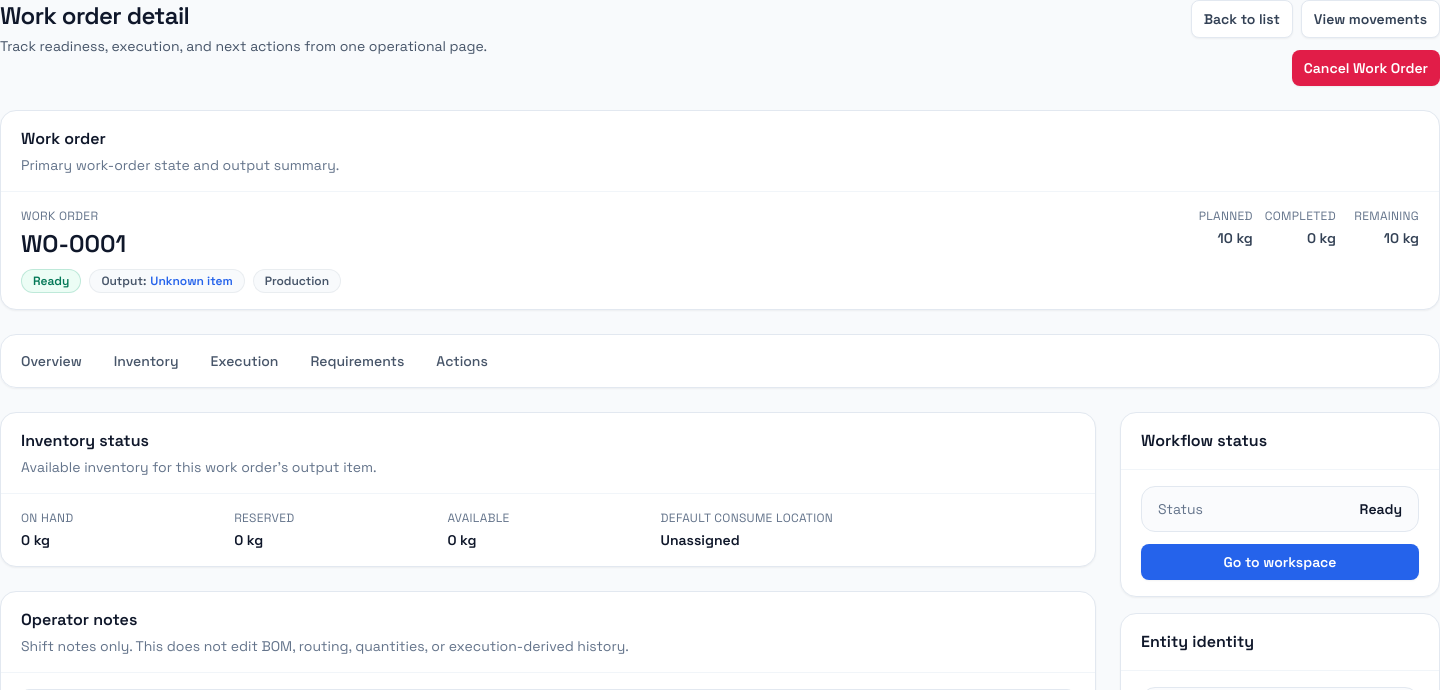
Scenario: WorkOrderDetailPage tabs › opens the detail cancel confirmation and invalidates all work-order branches on confirm
Step 1. Click the button "Cancel Work Order" → (1366, 68), box [1292, 50, 1439, 86]
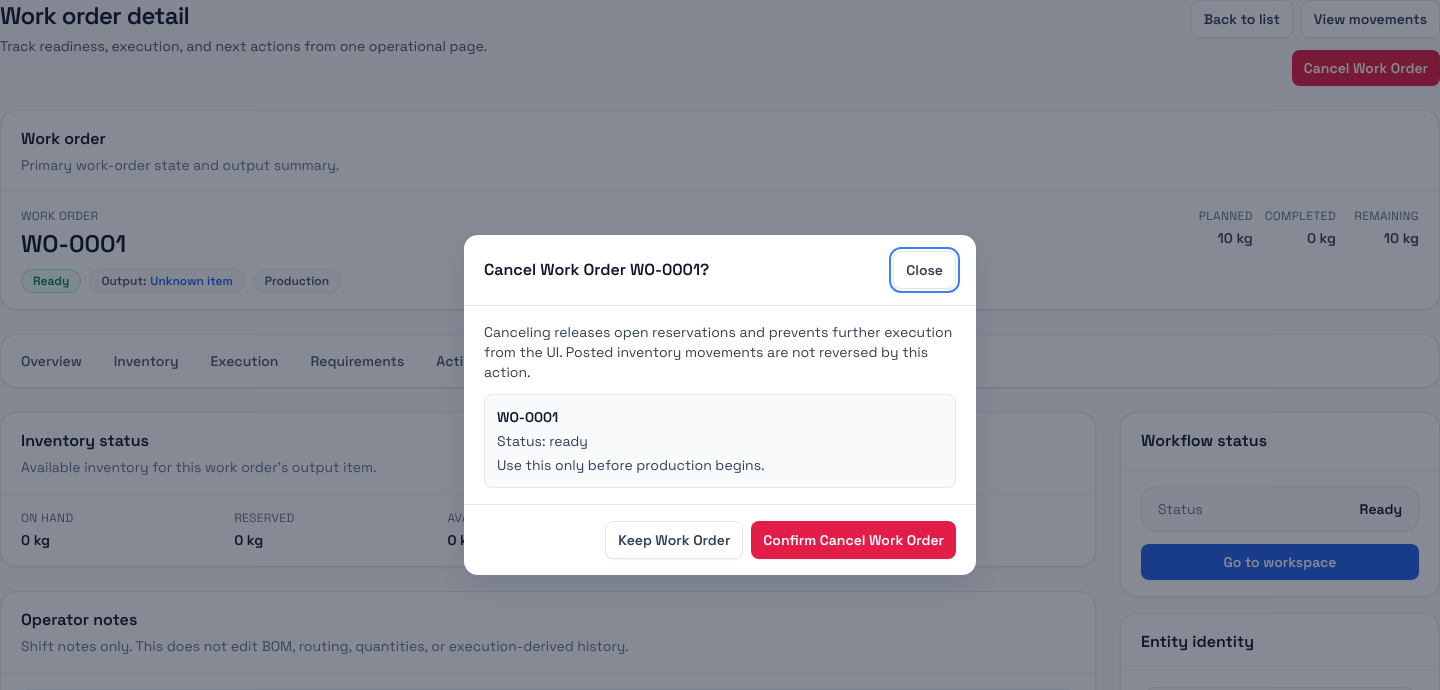
Now the text "Cancel Work Order WO-0001?" is shown, box [484, 258, 709, 282]
Step 2. Click the button "Confirm Cancel Work Order" → (854, 540), box [751, 521, 956, 559]
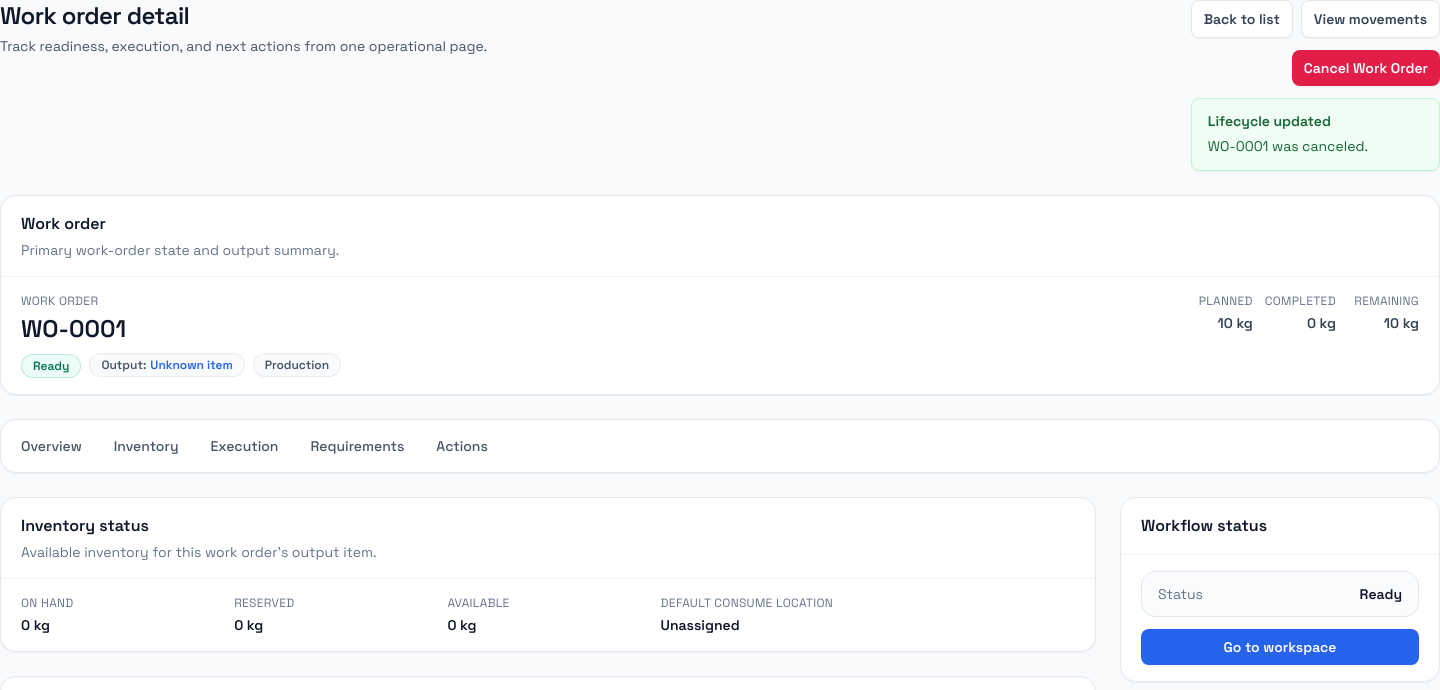
Now the text "Lifecycle updated" is shown, box [1208, 112, 1331, 130]
